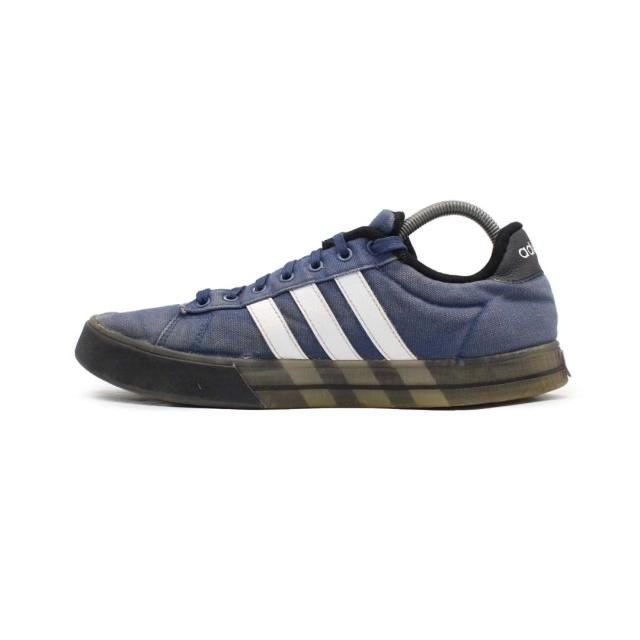heel: (492, 222, 559, 353)
midsole: (70, 321, 568, 412)
uppersole: (88, 210, 490, 362)
